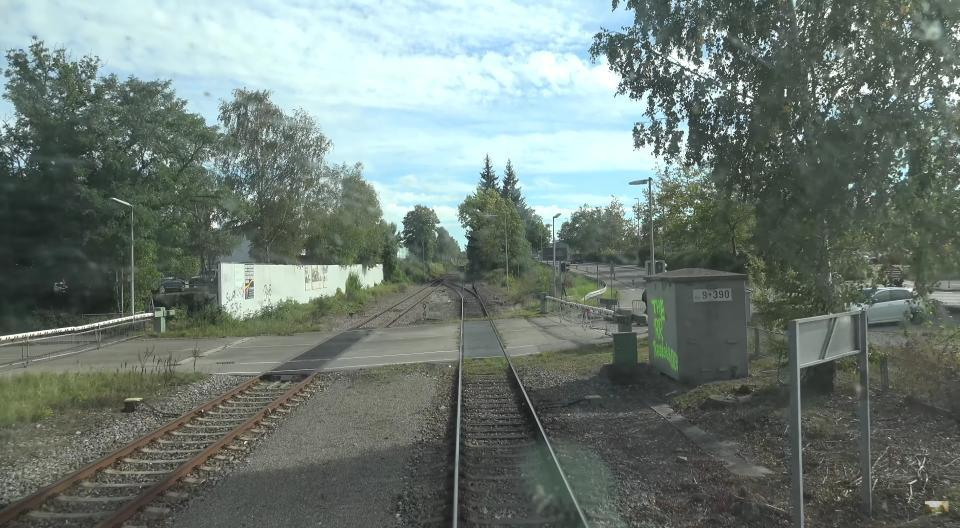Plant: (511, 350, 582, 375), (463, 357, 507, 376), (489, 303, 536, 319), (465, 317, 489, 321), (449, 319, 461, 323)
